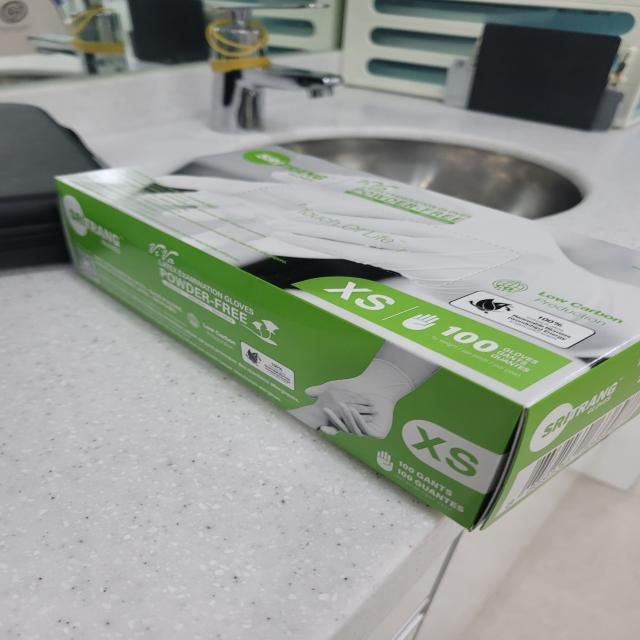glove: (39, 124, 640, 541)
